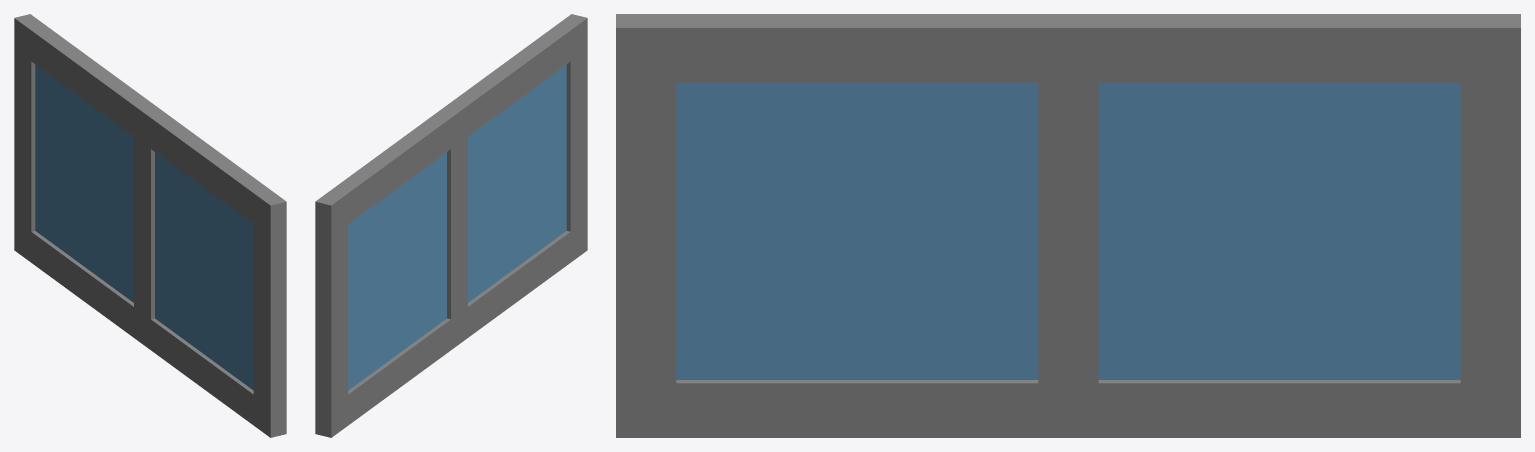
File: glass_wall.obj
3 renders of one model, left to right at view 1: azimuth 30°, elevation 25°; view 2: azimuth 150°, elevation 25°; view 3: azimuth 270°, elevation 25°, orthographic. The views are drawn at different scales.
Size of the model in its own units: 0.12 by 1.65 by 3.3.
